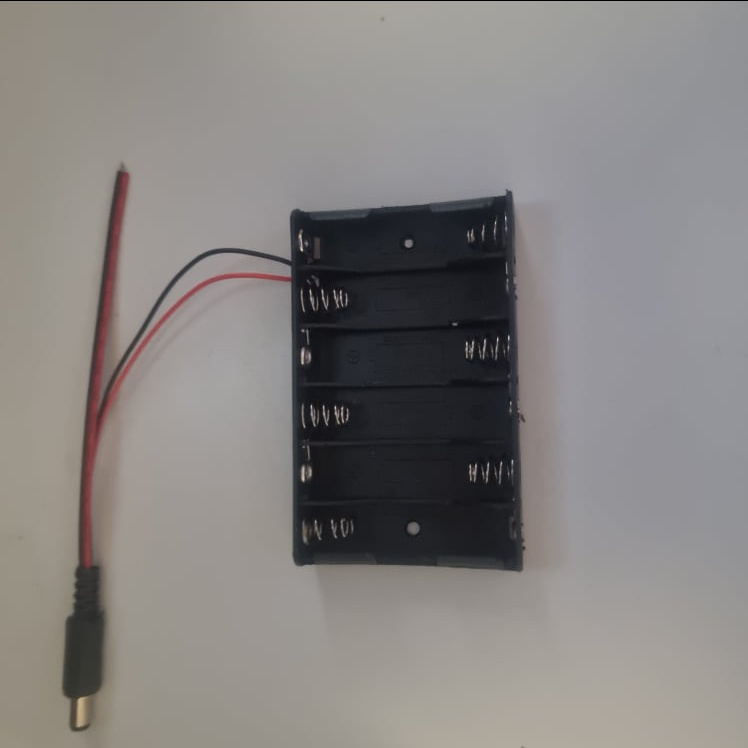BATTERY BOX: (290, 188, 526, 573)
